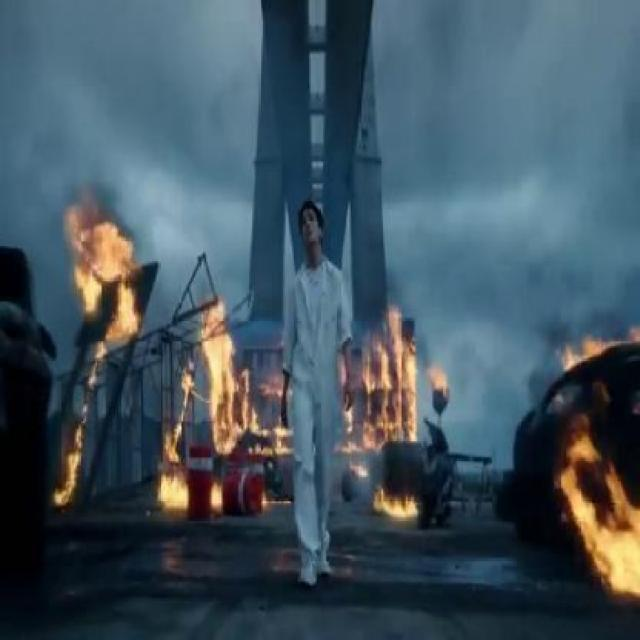fire: (554, 423, 640, 592), (192, 283, 248, 454), (66, 202, 137, 336), (360, 316, 418, 438), (160, 431, 191, 520)
smoke: (4, 22, 130, 215), (527, 123, 640, 331), (492, 316, 556, 444), (333, 404, 381, 508), (257, 399, 294, 513), (350, 248, 404, 324), (408, 272, 436, 368)
